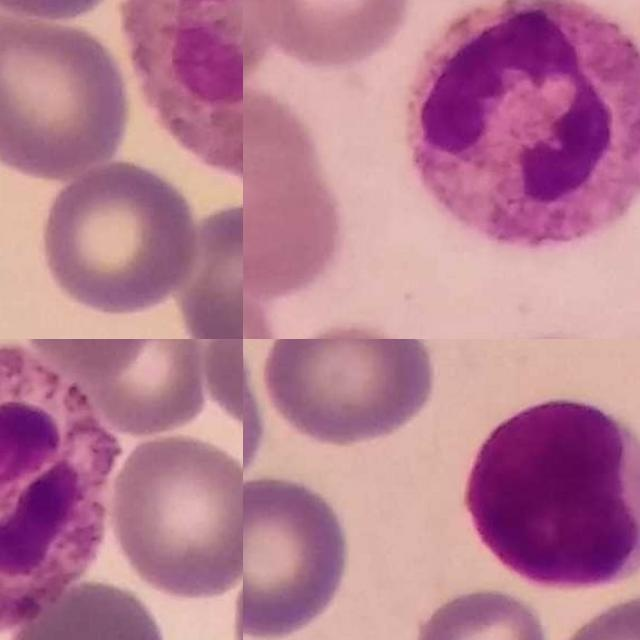Eosinophil: (124, 0, 243, 189)
Lymphocyte: (462, 398, 640, 591)
Neutrophil: (406, 0, 640, 244), (0, 342, 120, 640)
